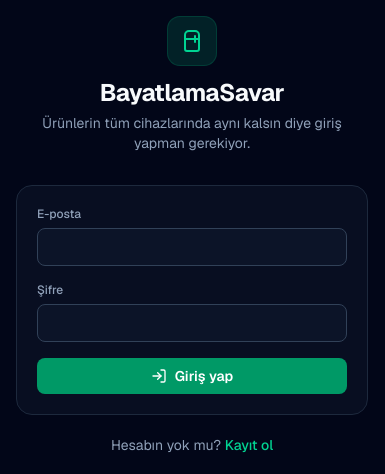
AuthScreen › kayıt kipine geçince buton metni değişir
Click the button "Kayıt ol" at (249, 445), box [225, 435, 273, 455]
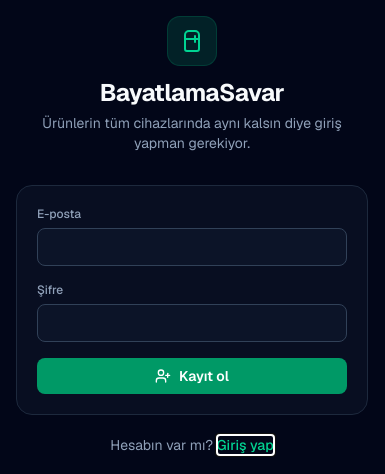
Expected: the button "Kayıt ol" is shown, [37, 358, 347, 394]
